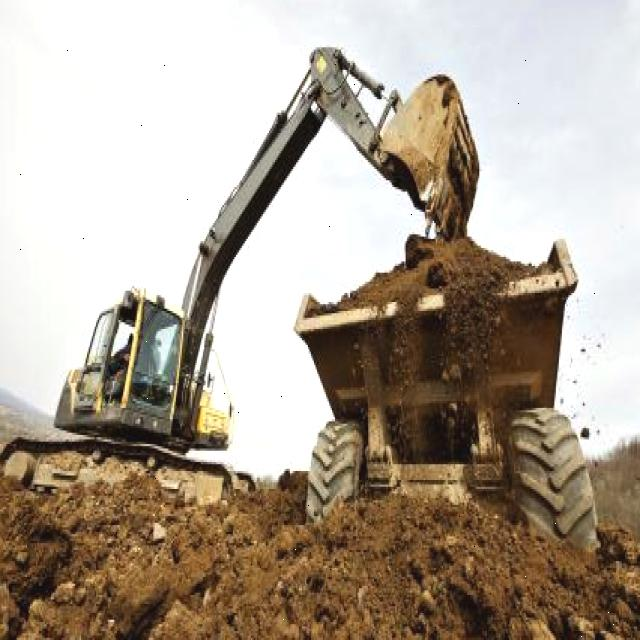Excavator: (0, 40, 483, 502)
